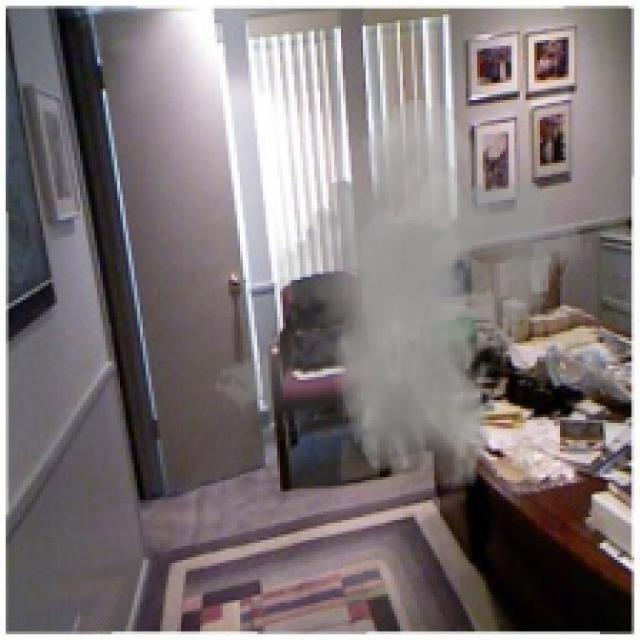smoke: (212, 97, 594, 492)
